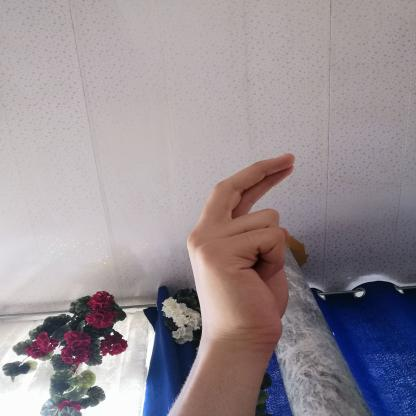ZAY: (175, 144, 312, 356)
